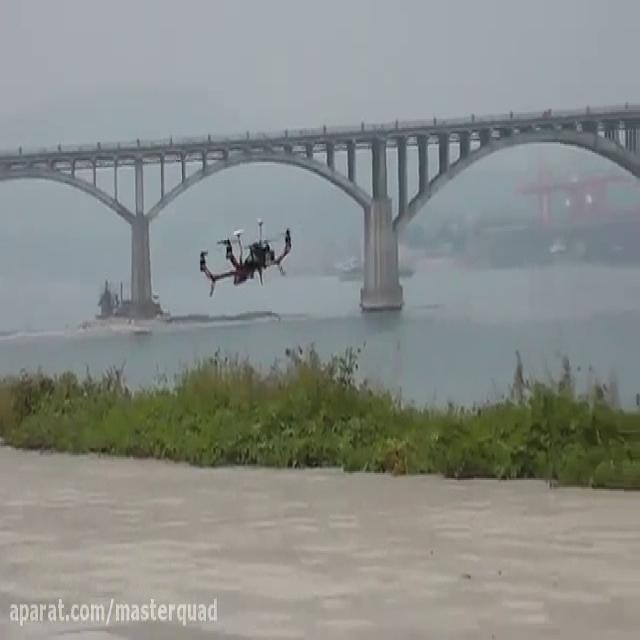drone: (193, 206, 299, 304)
